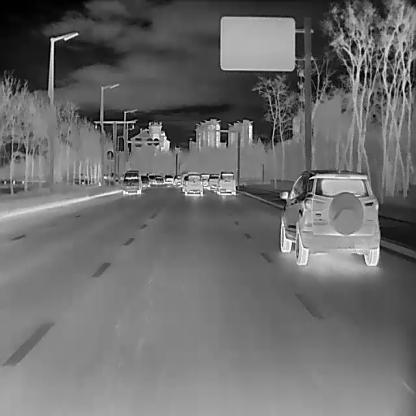car: (278, 169, 380, 264), (122, 169, 141, 194), (217, 171, 236, 194), (184, 174, 203, 195), (207, 173, 219, 189), (200, 172, 210, 188), (148, 174, 163, 184), (162, 173, 173, 184), (140, 175, 149, 186), (173, 174, 181, 184)
